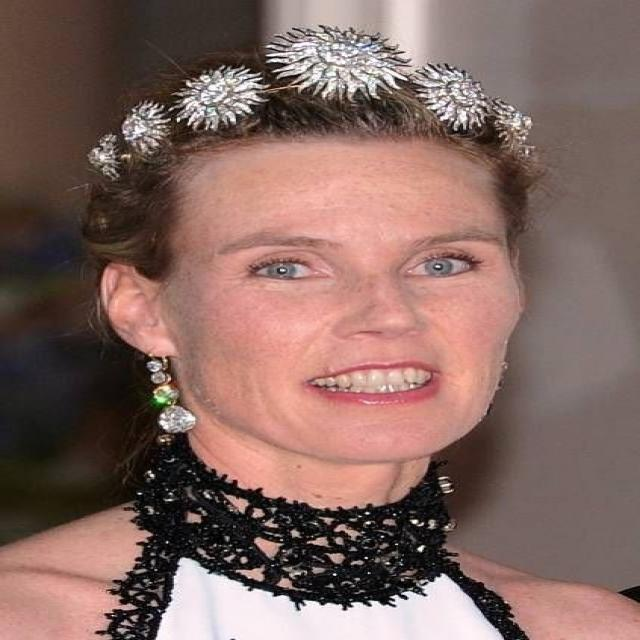Earring: (137, 335, 199, 445)
